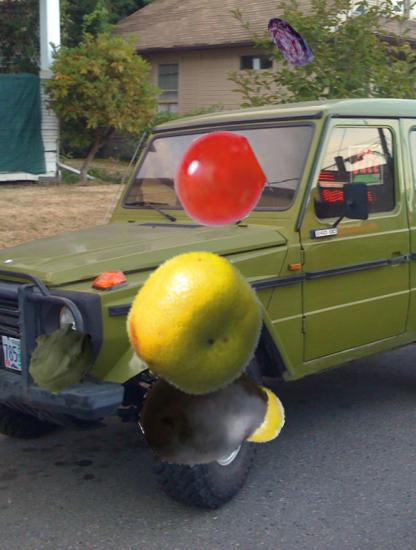Dates: (259, 13, 319, 73)
Kohlrabi: (26, 323, 99, 396)
Maracuja: (220, 380, 286, 446)
Plum: (139, 345, 270, 476)
Pomelo: (126, 252, 269, 395)
Redcurrant: (171, 133, 265, 227)
